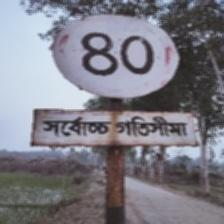Speed-limit: (31, 11, 196, 149)
